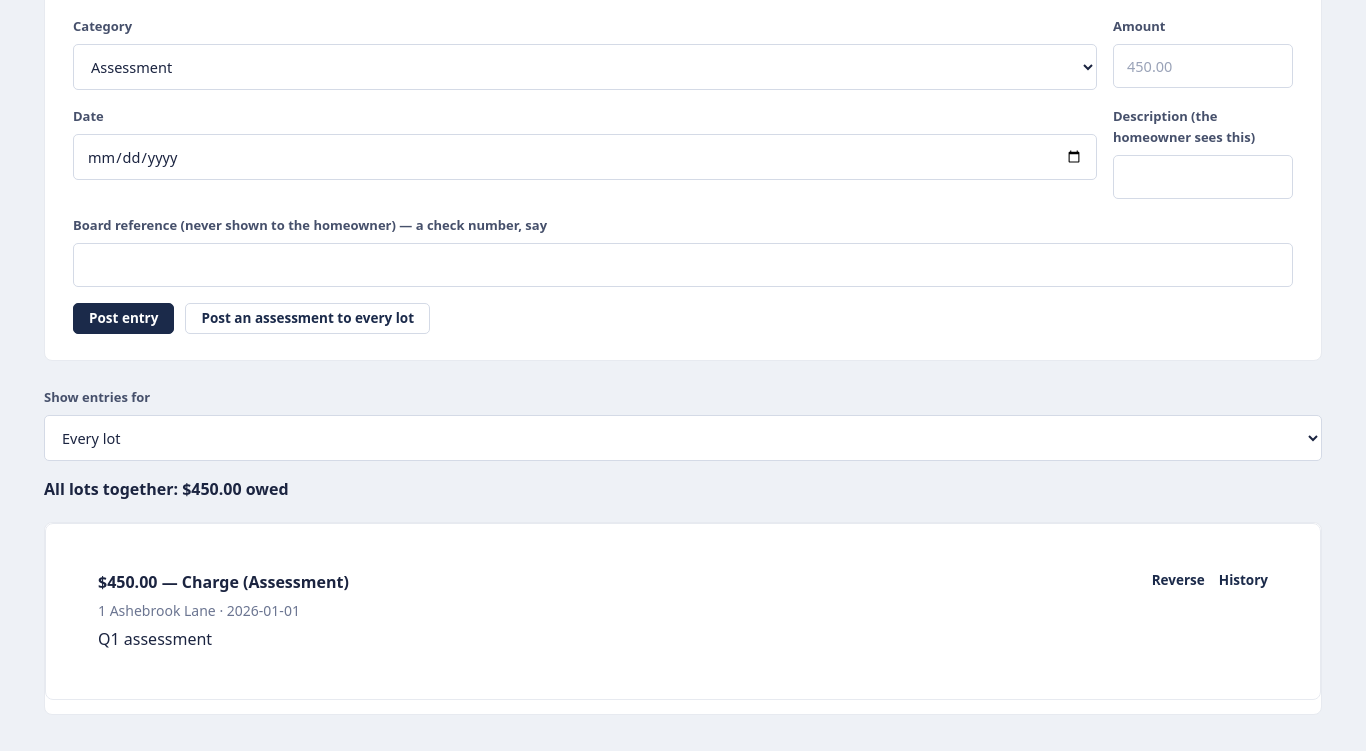
reversing an entry › says what reversing does, and what it will post, before it acts
(page scrolled)
Step 1. Click the button with aria-label "Reverse entry:" → [1178, 581], box [1152,570,1205,592]
(page scrolled)
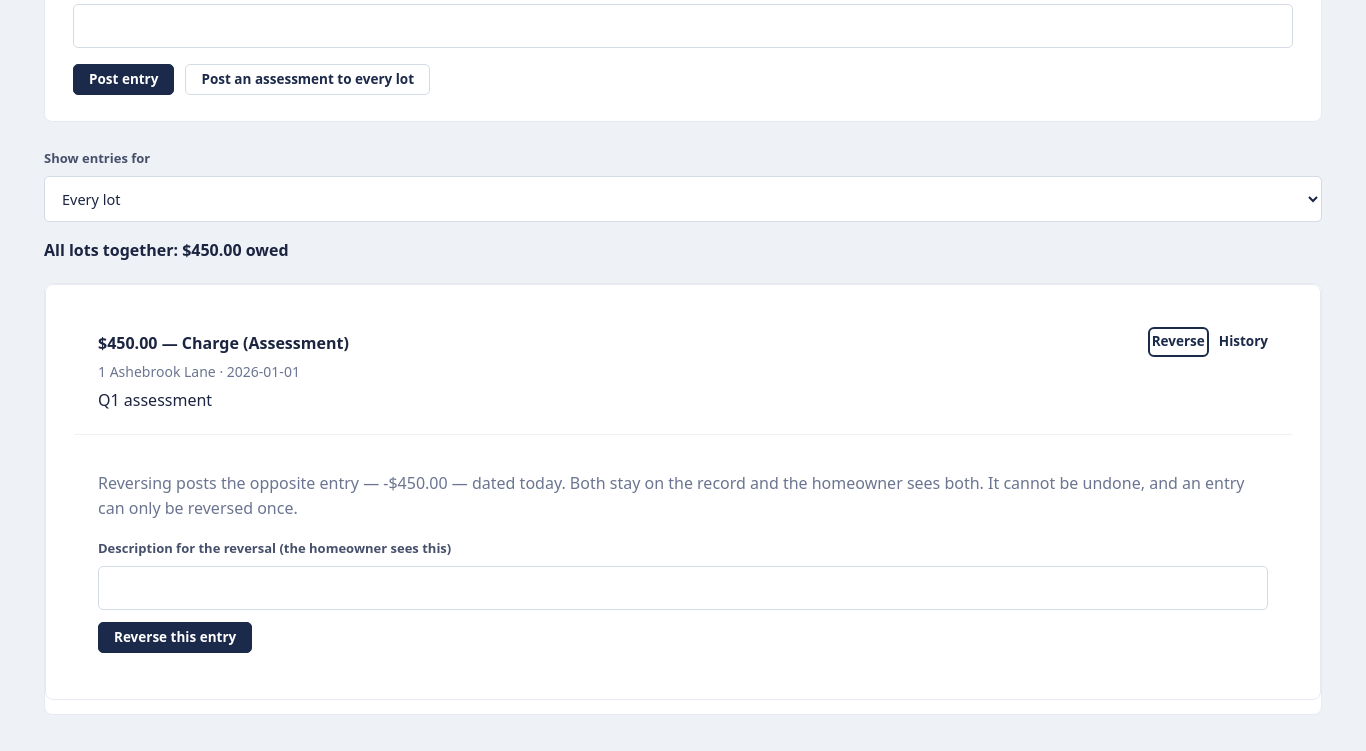
Expected: the text "cannot be undone" is shown, [98,472,1244,519]
Expected: the text "-$450.00" is shown, [383,472,448,494]
